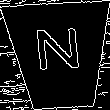N_S: (33, 29, 86, 82)
